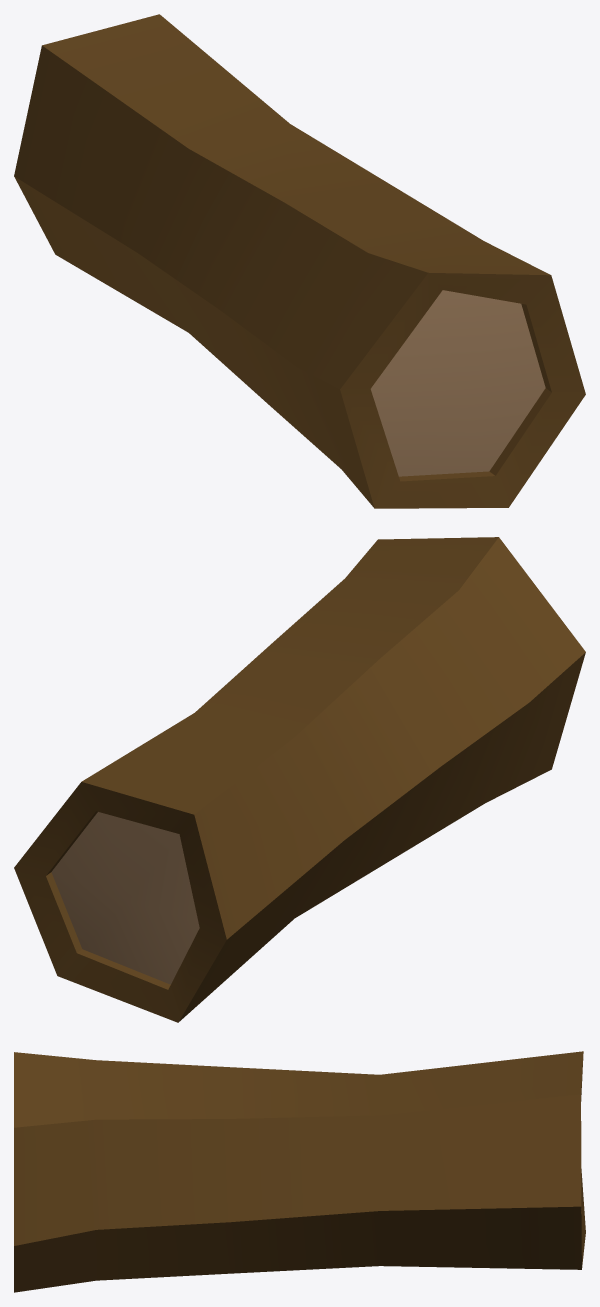
The model's file is Wood_Log.fbx.
3 renders of one model, top to bottom at view 1: azimuth 30°, elevation 25°; view 2: azimuth 150°, elevation 25°; view 3: azimuth 270°, elevation 25°, orthographic. The views are drawn at different scales.
Visible parts, largest first — view 1: pCylinder1; view 2: pCylinder1; view 3: pCylinder1.
Part boxes in pixels (left/top/right/bottom): pCylinder1: left=14, top=14, right=585, bottom=508; pCylinder1: left=14, top=537, right=585, bottom=1022; pCylinder1: left=14, top=1051, right=585, bottom=1292.
Bounding box in the file's own units: 1.87 × 1.85 × 4.6.
